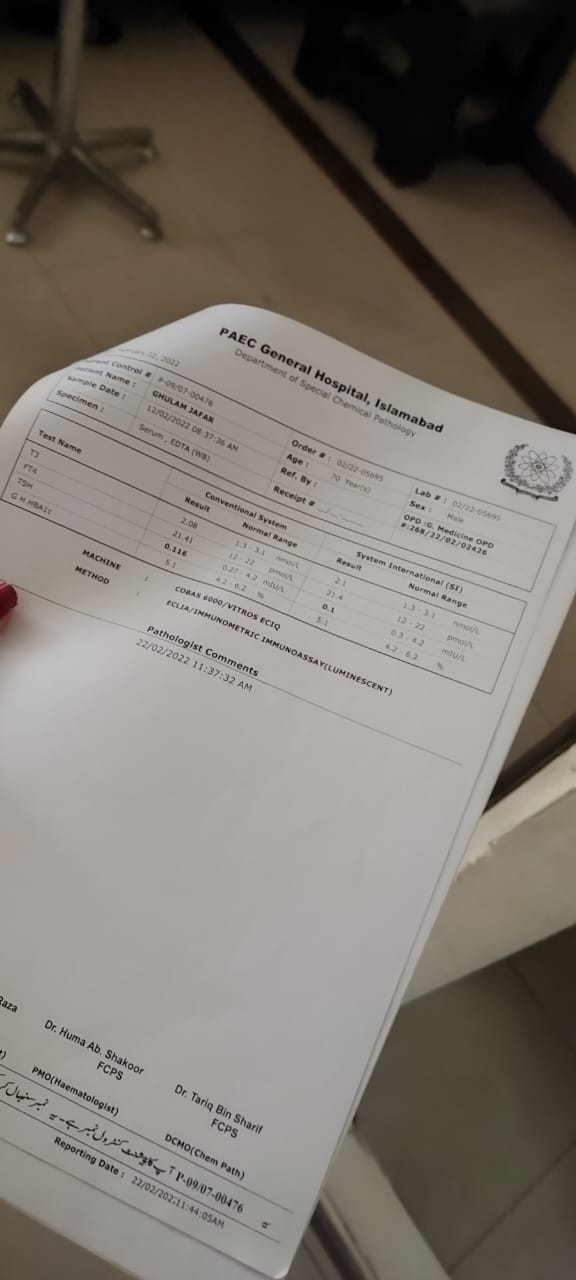report: (1, 412, 526, 701)
